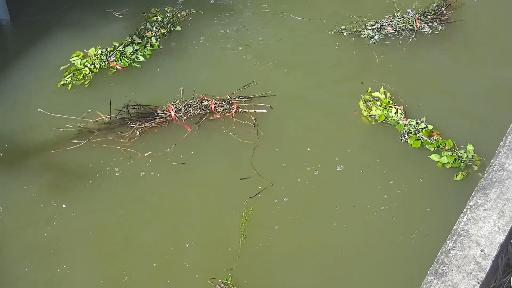leaf: (232, 205, 258, 281)
twig: (32, 77, 279, 158), (350, 82, 491, 186), (53, 1, 206, 91), (325, 1, 470, 49)
